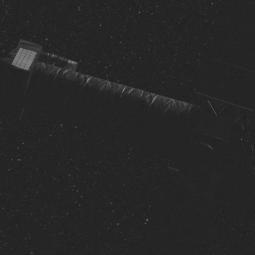xmm_newton: (2, 34, 224, 176)
